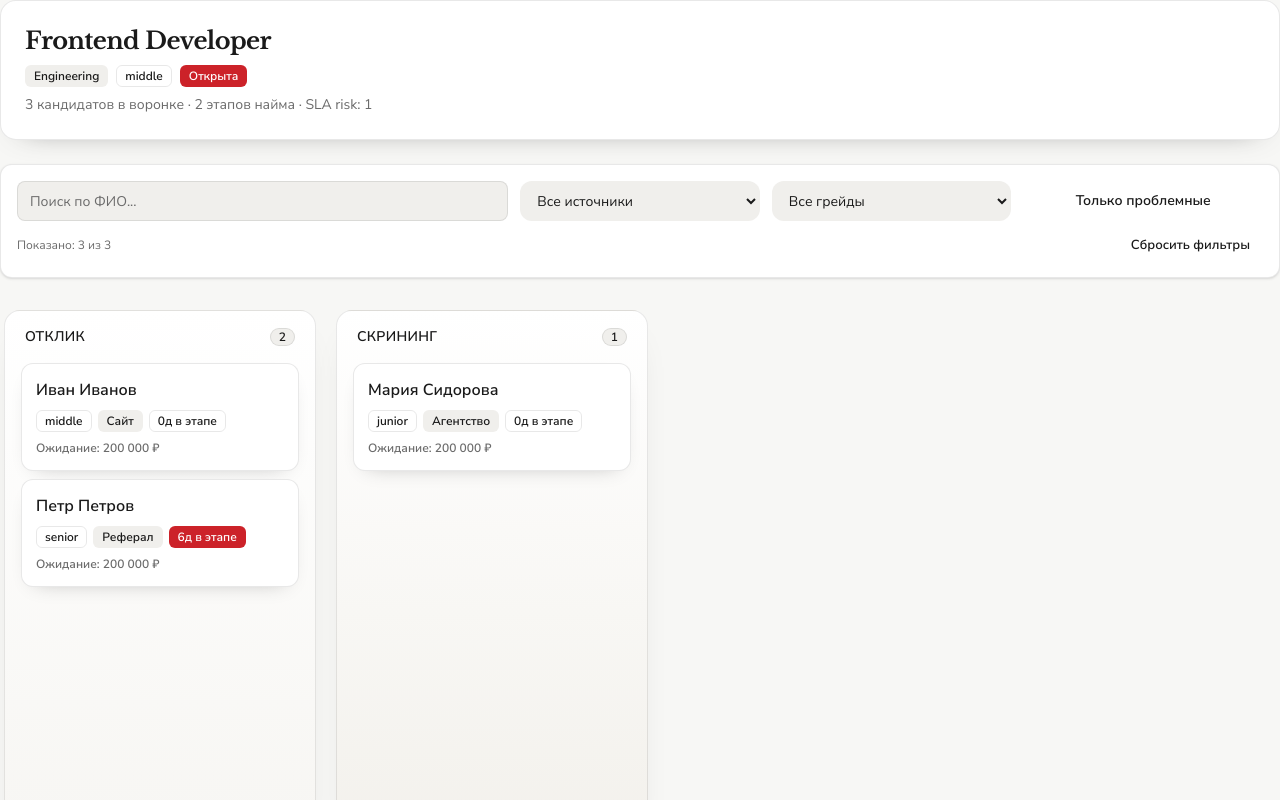
Test: BoardClient filters › filters candidates by search text
Type "Мария" into the field with placeholder "Поиск по ФИО..." at x=263, y=201, box [17,181,508,221]
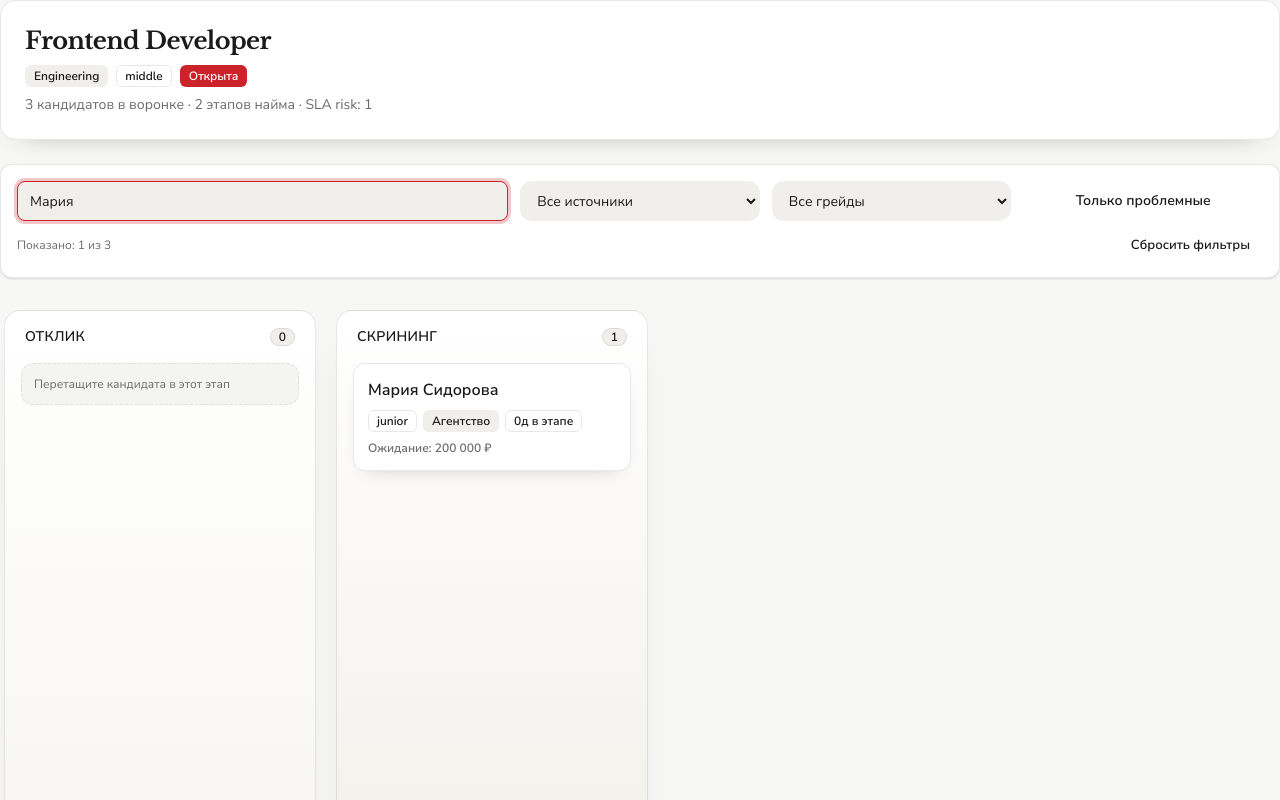
Check: the text "Показано: 1 из 3" is shown, box [17,237,111,253]
